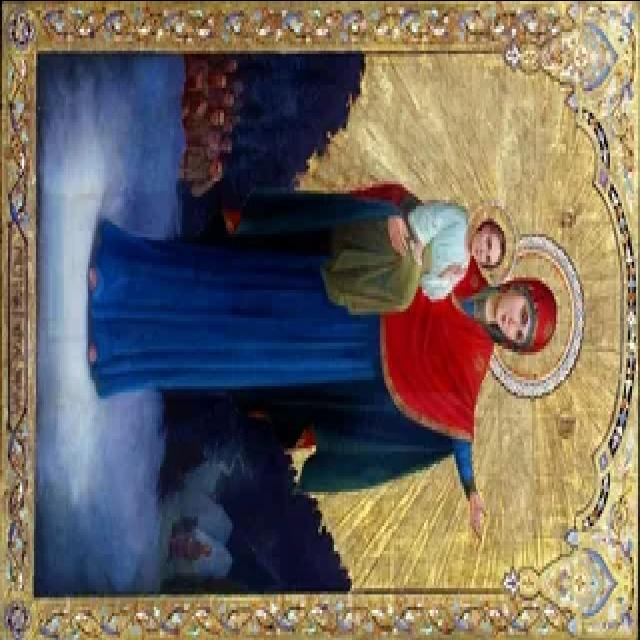mother of god: (83, 156, 569, 538)
